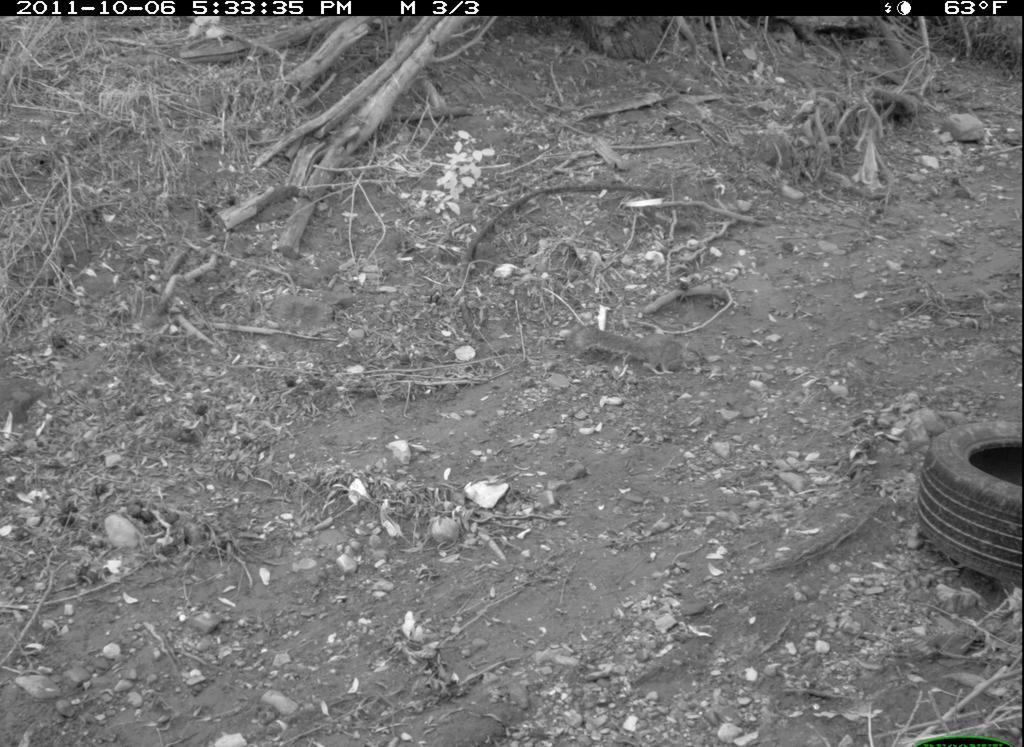squirrel: (560, 315, 721, 392)
